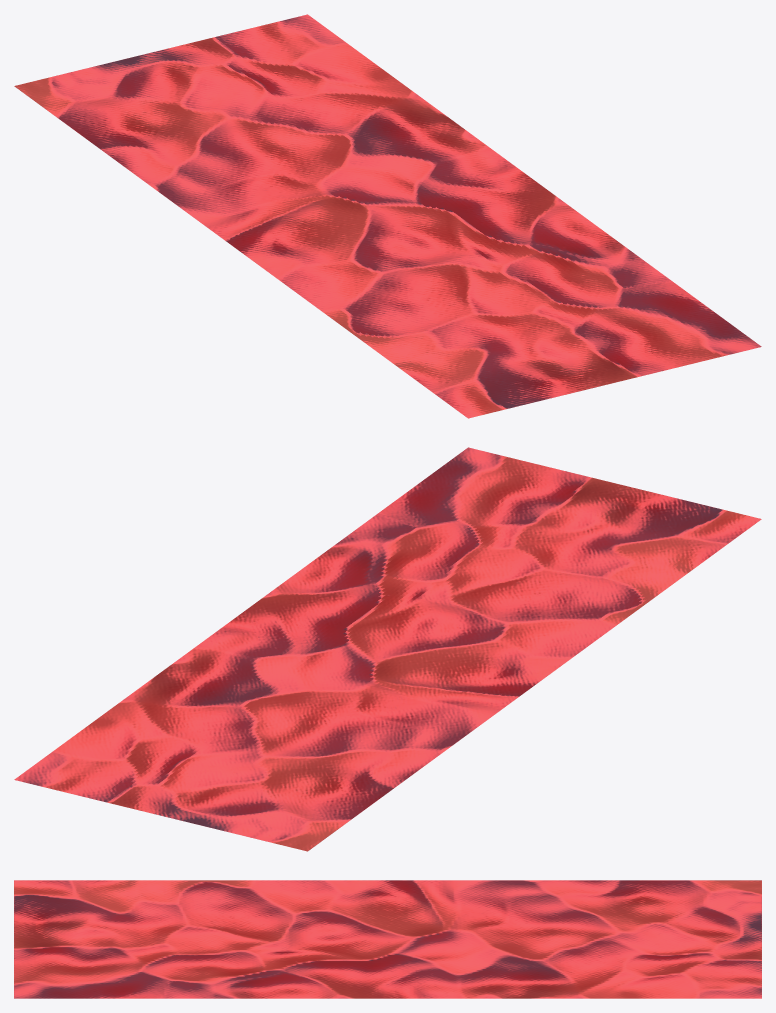
File: desertv2.glb
The picture shows the model from 3 angles, top to bottom: view 1: azimuth 30°, elevation 25°; view 2: azimuth 150°, elevation 25°; view 3: azimuth 270°, elevation 25°; orthographic projection. The views are drawn at different scales.
Visible parts, largest first — view 1: Plane; view 2: Plane; view 3: Plane.
Boxes of the visible parts, x1=… form: Plane: x1=14, y1=14, x2=761, y2=418; Plane: x1=14, y1=447, x2=761, y2=851; Plane: x1=14, y1=880, x2=761, y2=998.
Size of the model in its own units: 89.35 by 0 by 239.
1 material, 1 textured.
